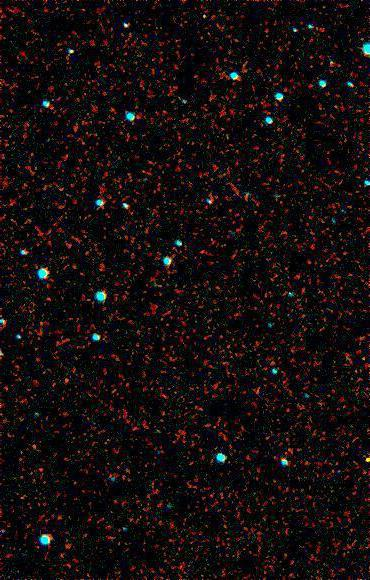star: (355, 445, 370, 475)
